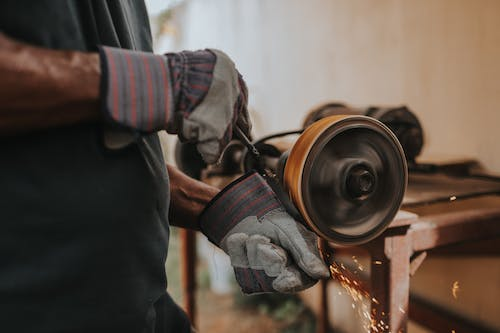knife: (230, 122, 308, 230)
